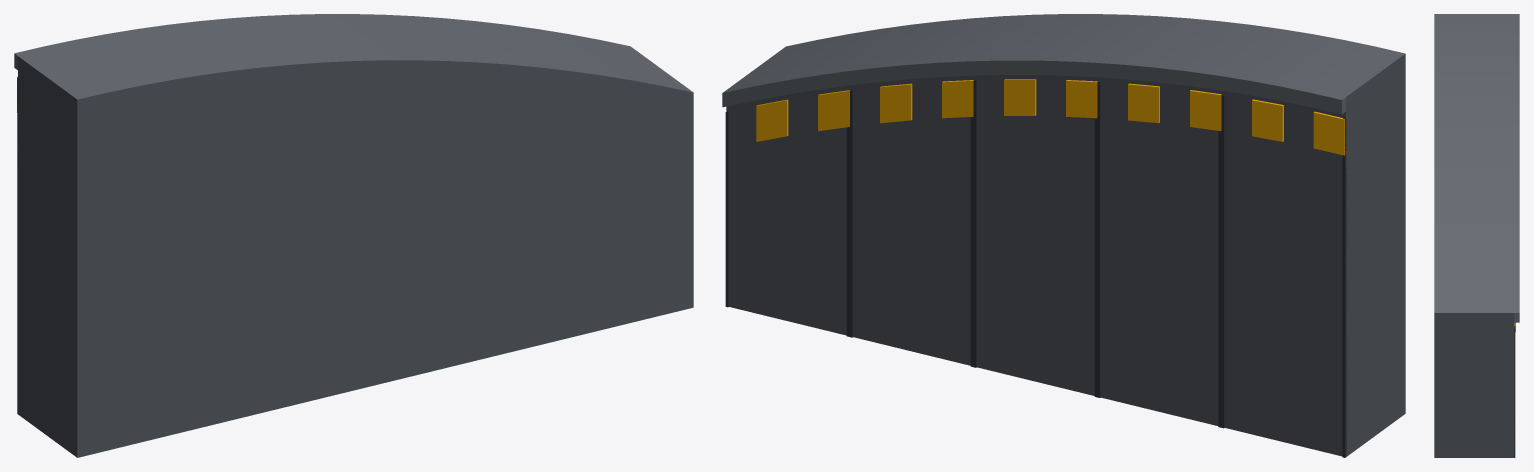
The picture shows the model from 3 angles, left to right: view 1: azimuth 30°, elevation 25°; view 2: azimuth 150°, elevation 25°; view 3: azimuth 270°, elevation 25°; orthographic projection. The views are drawn at different scales.
Visible parts, largest first — view 1: e2wf; view 2: e2wf; view 3: e2wf.
Boxes of the visible parts, box(x1,y1,x2,y2) form: e2wf: box(14, 14, 693, 457); e2wf: box(722, 14, 1405, 457); e2wf: box(1434, 14, 1519, 457).
Size of the model in its own units: 9 by 5 by 1.6.
